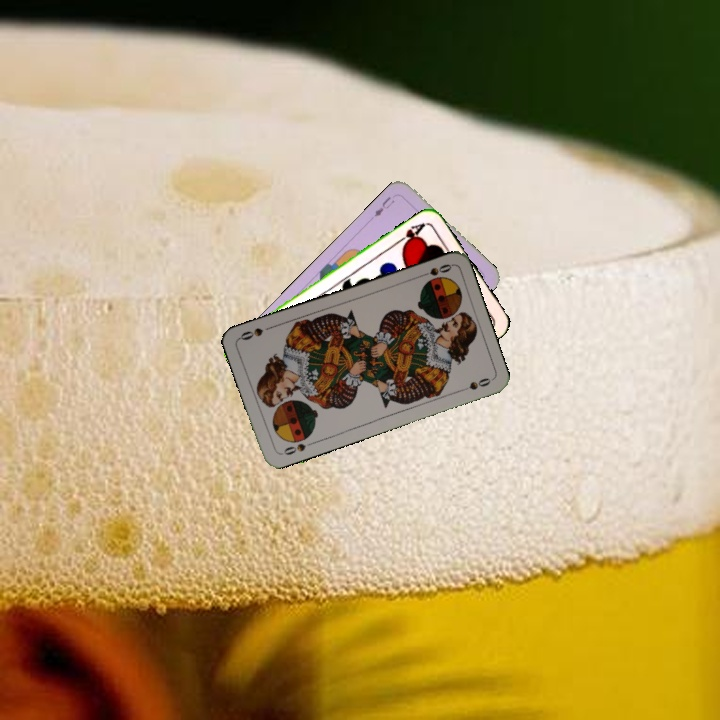EU: (370, 192, 397, 220)
HA: (393, 219, 429, 251)
SO: (276, 438, 316, 458), (415, 260, 454, 280)
